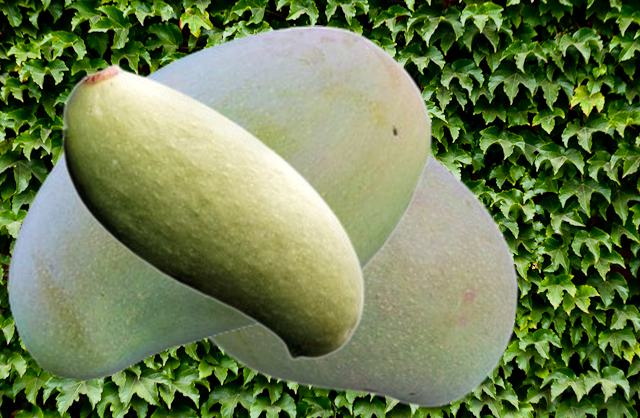green_mango: (7, 25, 432, 378), (61, 62, 364, 360), (207, 152, 518, 407)
